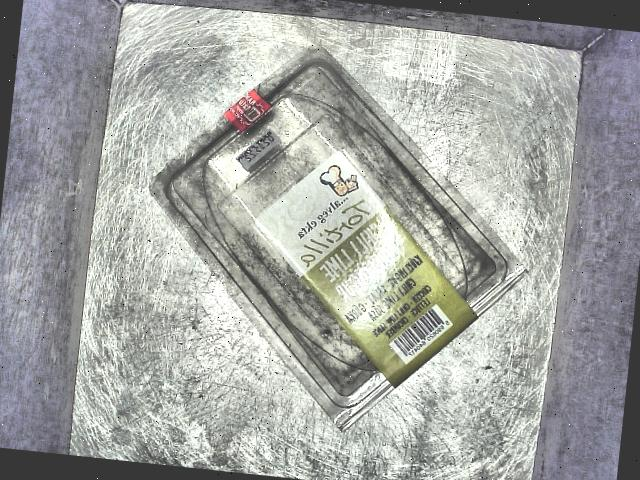Plastic: (130, 16, 558, 455)
